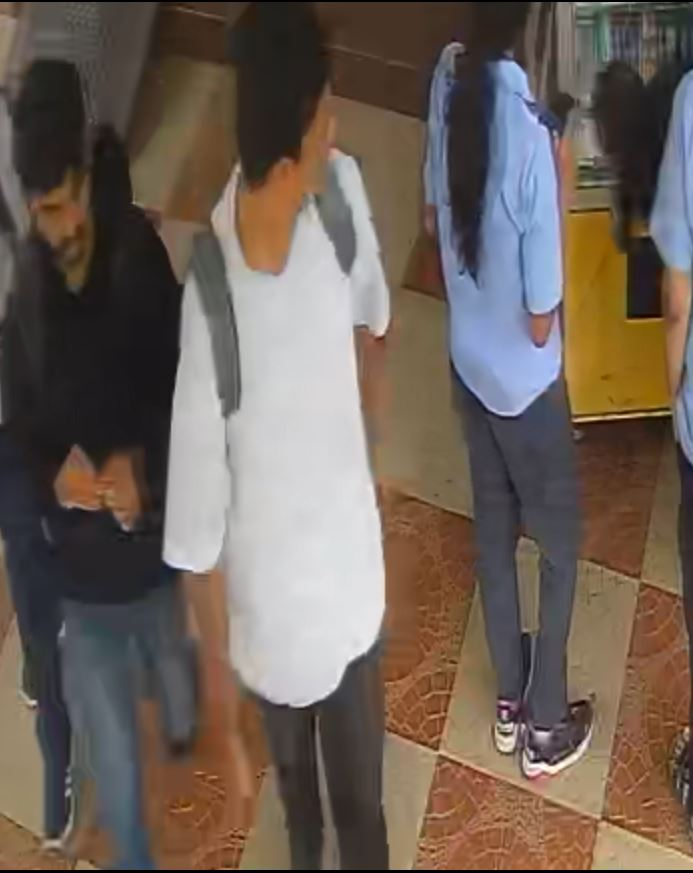intruder: (163, 12, 411, 873), (6, 38, 203, 870)
